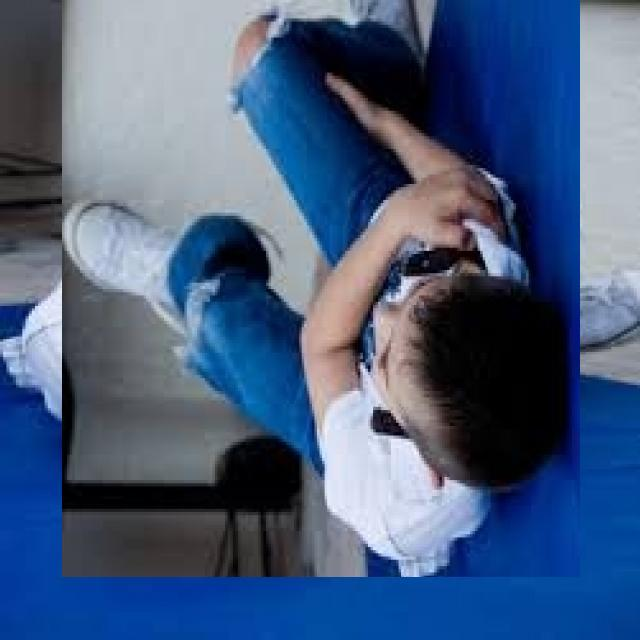Fall: (70, 16, 583, 580)
